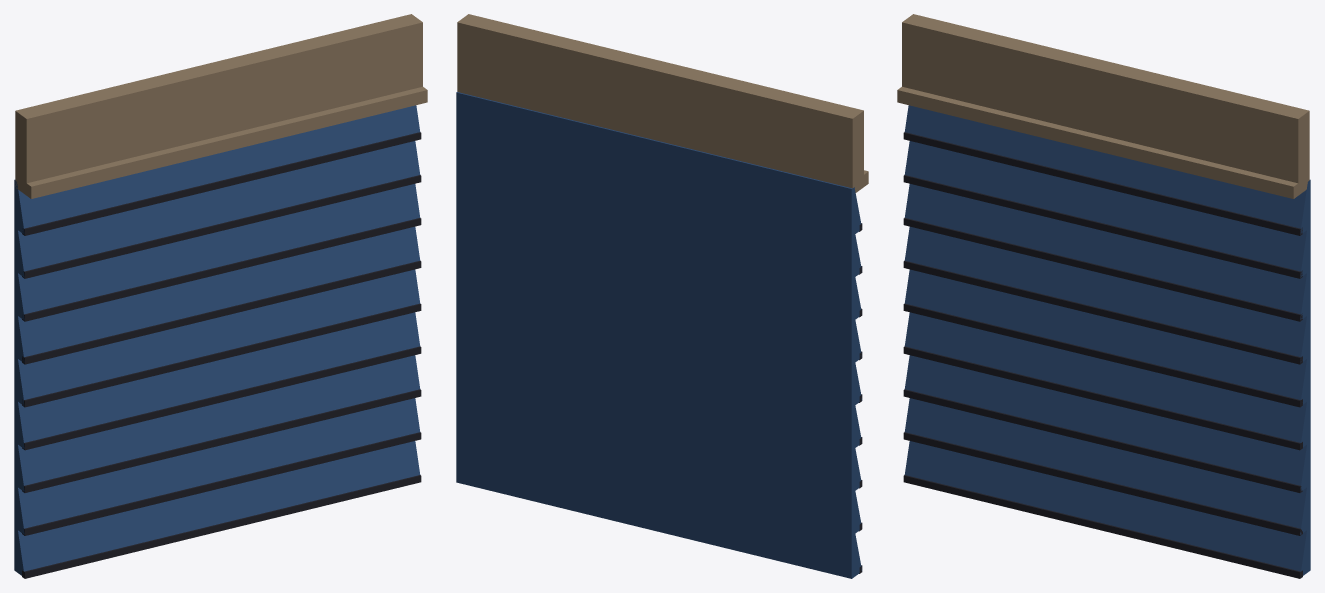
File: kit_clap_up_win.glb
3 renders of one model, left to right at view 1: azimuth 30°, elevation 25°; view 2: azimuth 150°, elevation 25°; view 3: azimuth 330°, elevation 25°, orthographic.
Parts seen in each view (by area): view 1: kit_clap_up_win; view 2: kit_clap_up_win; view 3: kit_clap_up_win.
Part boxes in pixels (bbox=[...]): kit_clap_up_win: bbox=[14, 14, 427, 578]; kit_clap_up_win: bbox=[456, 14, 868, 578]; kit_clap_up_win: bbox=[897, 14, 1310, 578].
Size of the model in its own units: 1 by 1.11 by 0.074.
